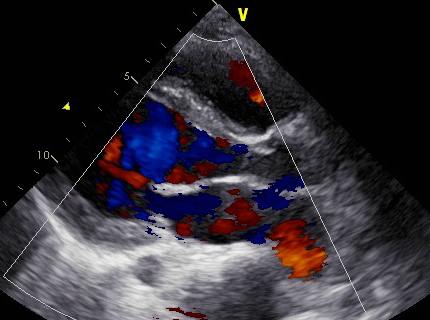AR: (153, 116, 246, 199)
